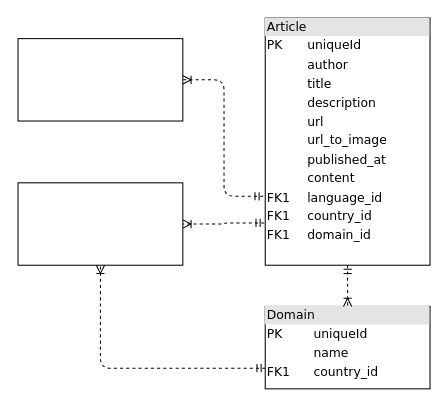
Some shapes in this 448 by 407 pixel diagram are drawn without their labels. The box of each missing label's shape, as (x1, y1, x2, y2) in pixels:
Country PK uniqueId name abbreviation: (17, 182, 183, 265)
Language PK uniqueId FK1 name abbreviation: (17, 38, 183, 121)
